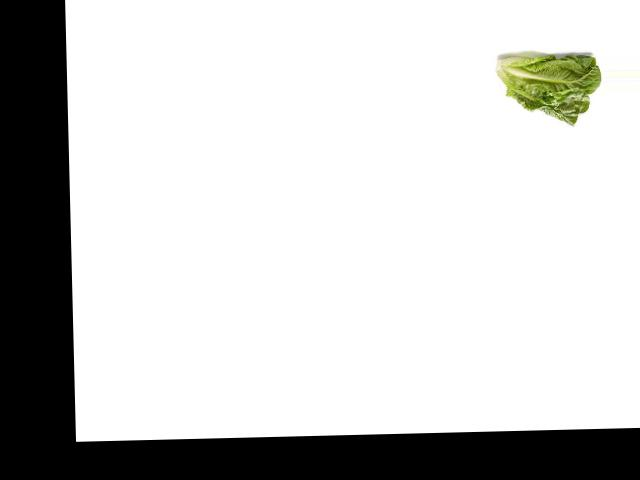lettuce: (490, 37, 602, 128)
